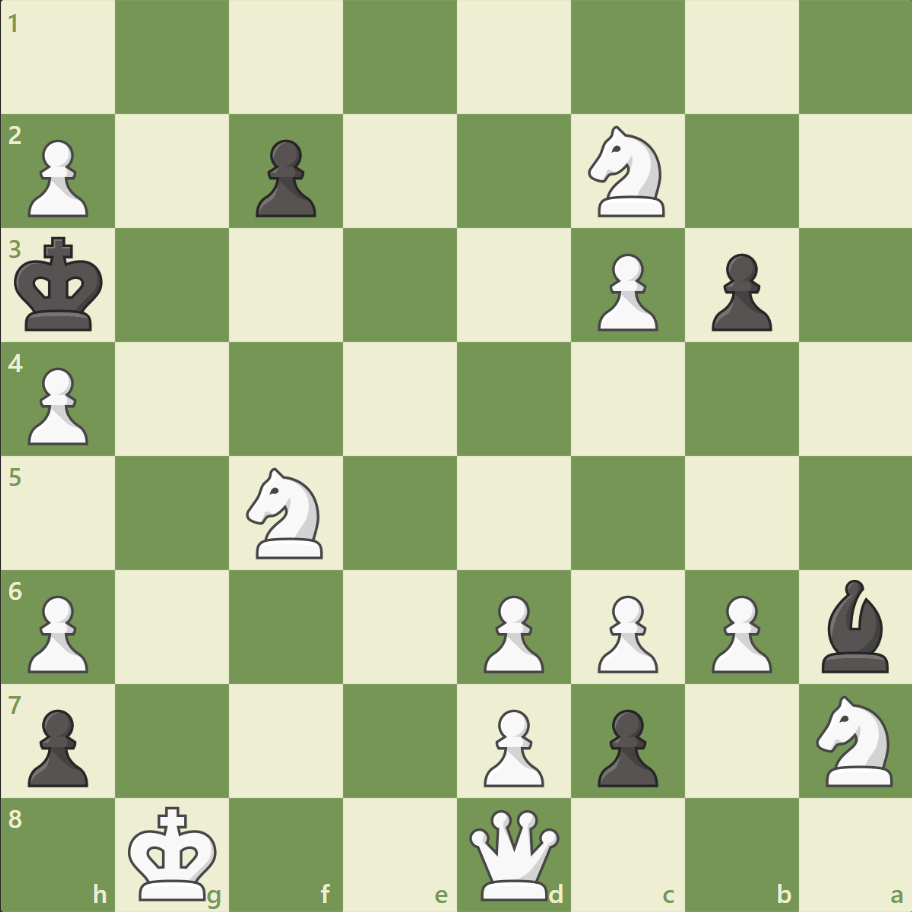K: (124, 798, 224, 906)
N: (806, 688, 903, 791), (238, 461, 335, 564), (579, 121, 676, 223)
P: (474, 700, 549, 791), (701, 586, 776, 677), (474, 586, 549, 677), (20, 586, 95, 677), (20, 359, 95, 450), (20, 132, 95, 223), (588, 586, 662, 677), (588, 246, 662, 337)
Q: (464, 804, 563, 903)
b: (812, 574, 896, 676)
k: (11, 231, 111, 339)
p: (20, 700, 95, 791), (701, 246, 776, 337), (247, 132, 322, 223), (588, 700, 662, 791)
